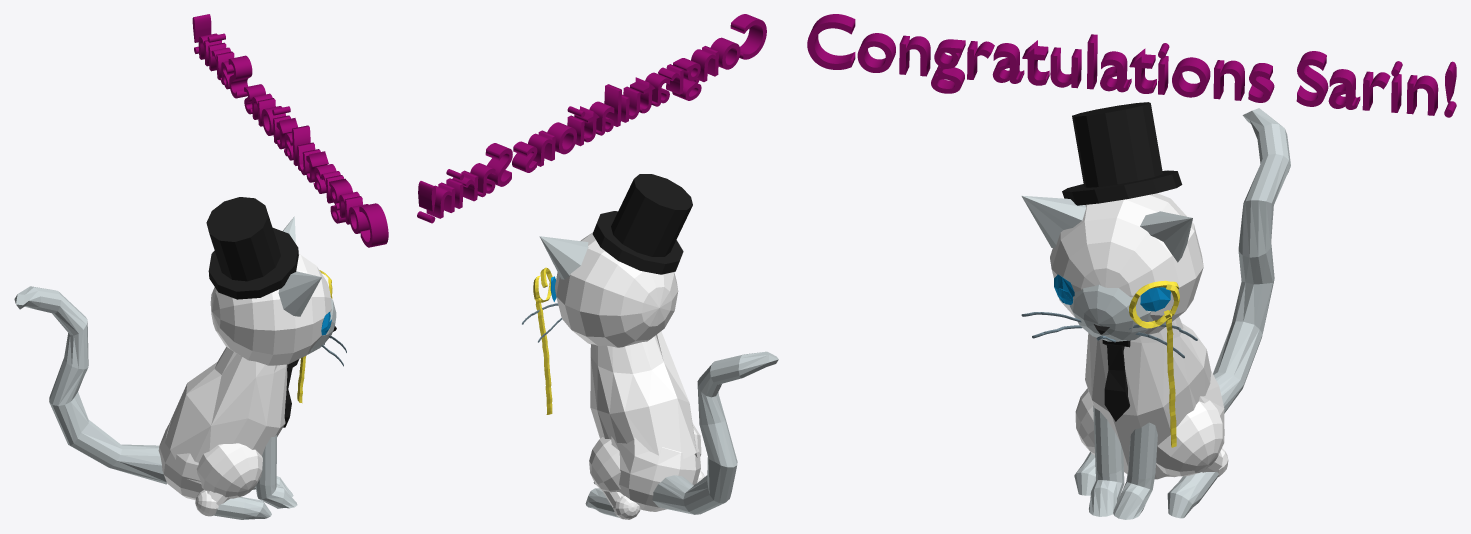
The model's file is sarin.obj.
3 renders of one model, left to right at view 1: azimuth 30°, elevation 25°; view 2: azimuth 150°, elevation 25°; view 3: azimuth 270°, elevation 25°, orthographic. The views are drawn at different scales.
Visible parts, largest first — view 1: mesh1207554554, Text, mesh1712038029, mesh6041946; view 2: mesh1207554554, Text, mesh1712038029, mesh6041946, mesh810580094; view 3: mesh1207554554, Text, mesh1712038029, mesh6041946, mesh1182857785, mesh1650328937, mesh810580094.
Part boxes in pixels (bbox=[...]): mesh1207554554: bbox=[14, 216, 346, 519]; Text: bbox=[192, 14, 388, 247]; mesh1712038029: bbox=[206, 197, 280, 281]; mesh6041946: bbox=[208, 228, 298, 299]; mesh1207554554: bbox=[522, 232, 778, 519]; Text: bbox=[417, 14, 766, 223]; mesh1712038029: bbox=[611, 174, 692, 256]; mesh6041946: bbox=[592, 211, 683, 274]; mesh810580094: bbox=[535, 298, 552, 414]; mesh1207554554: bbox=[1021, 108, 1290, 519]; Text: bbox=[807, 14, 1456, 117]; mesh1712038029: bbox=[1072, 102, 1162, 187]; mesh6041946: bbox=[1062, 170, 1182, 205]; mesh1182857785: bbox=[1104, 344, 1129, 421]; mesh1650328937: bbox=[1129, 280, 1179, 328]; mesh810580094: bbox=[1164, 310, 1176, 447].
Bounding box in the file's own units: 0.5477 × 0.7328 × 0.8826.
